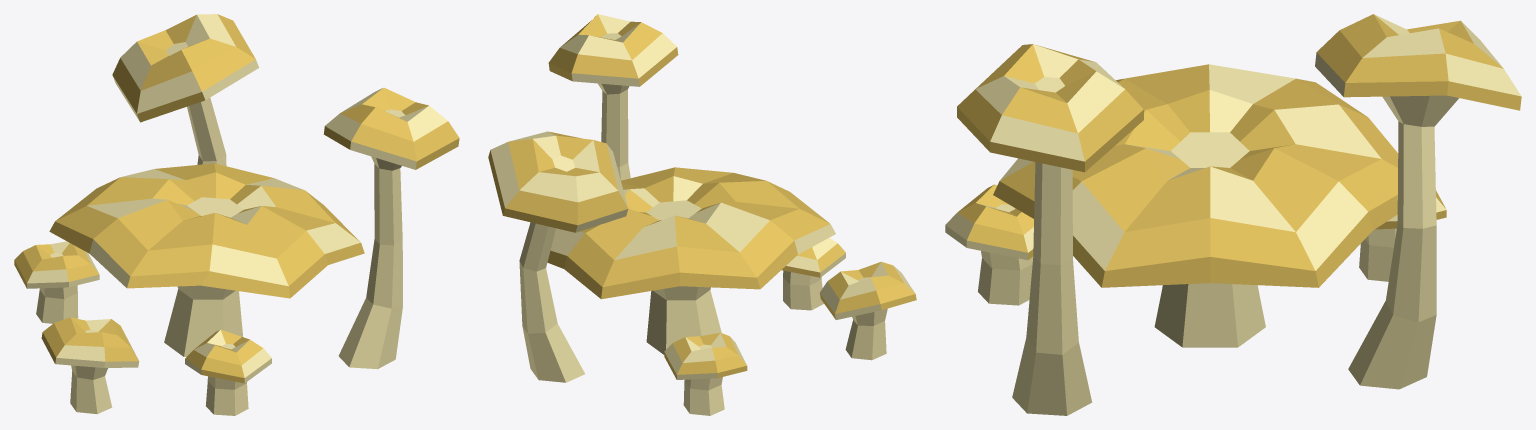
File: chanterelle.fbx
3 renders of one model, left to right at view 1: azimuth 30°, elevation 25°; view 2: azimuth 150°, elevation 25°; view 3: azimuth 270°, elevation 25°, orthographic. The views are drawn at different scales.
Parts seen in each view (by area): view 1: chanterelle; view 2: chanterelle; view 3: chanterelle.
Part boxes in pixels (x1,y1,x2,y2): chanterelle: (14, 14, 459, 415); chanterelle: (488, 14, 916, 415); chanterelle: (945, 14, 1521, 415).
Bounding box in the file's own units: 64.2 × 41.44 × 60.61.
Materials: 1 (1 with a texture image).
